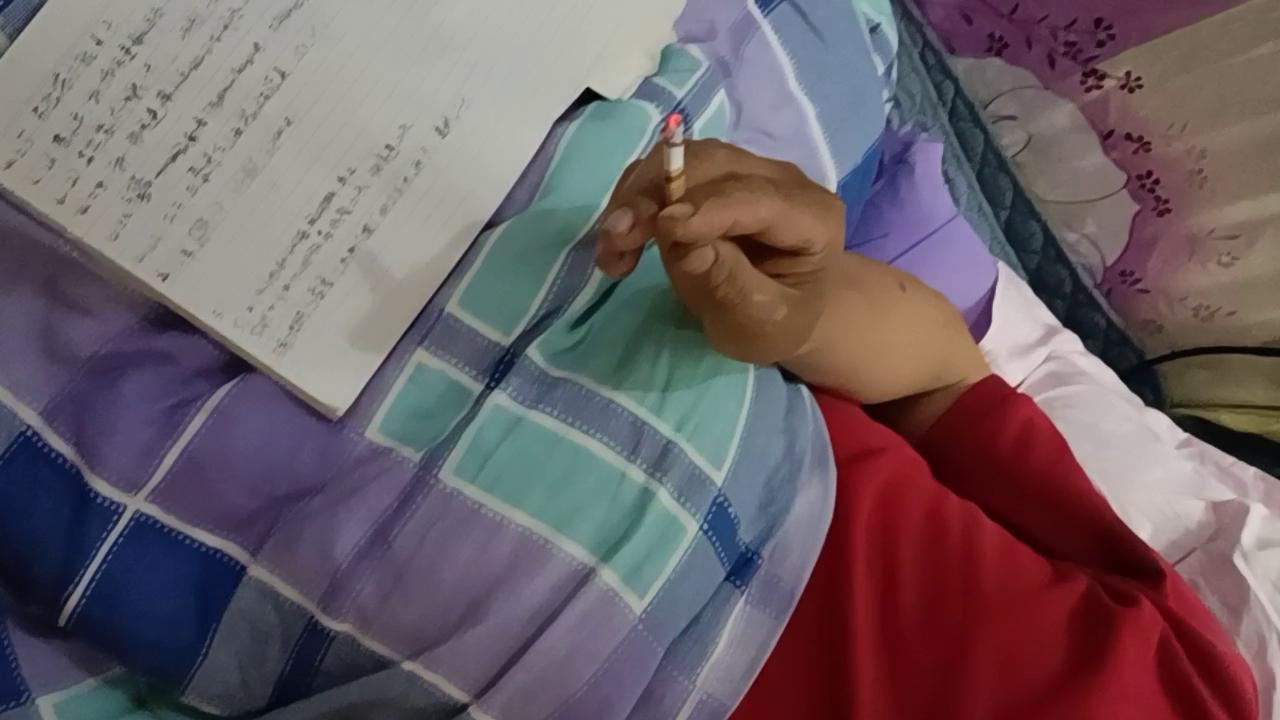smoke: (660, 112, 689, 225)
